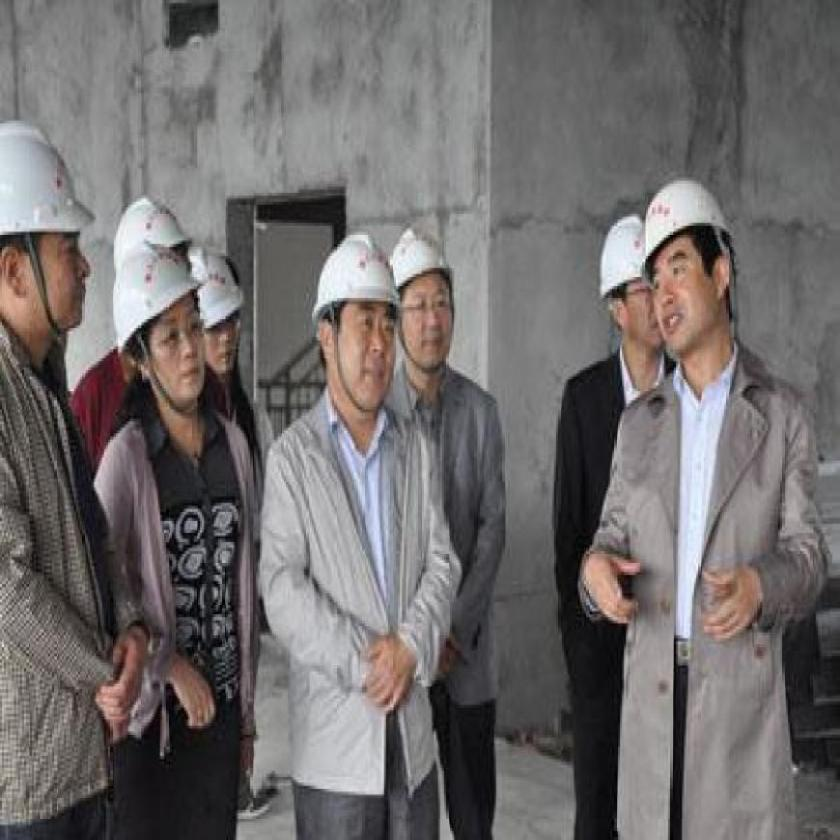Con_casco: (0, 107, 97, 366), (642, 152, 753, 376), (108, 225, 222, 411), (310, 238, 405, 442), (390, 222, 465, 382), (597, 208, 659, 368)
